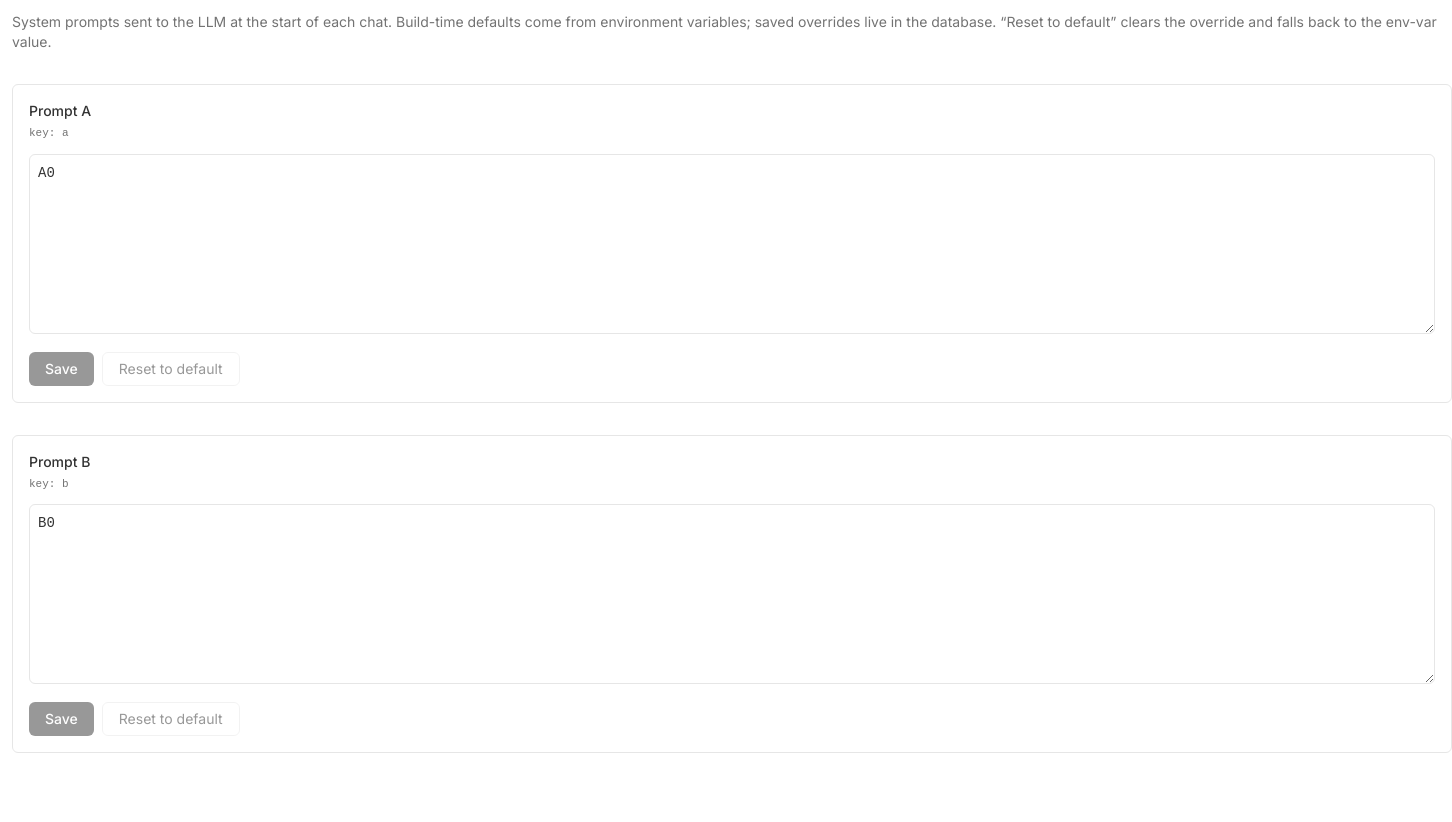
it: Prompts tab and the bar › saving one prompt from its own button keeps the other prompt's unsaved text
Expected: the text "Prompt A" is shown, x1=29 y1=101 x2=91 y2=121
Replace the text in the text box below "Prompt A" with "A1" at (732, 244), box x1=29 y1=154 x2=1435 y2=334
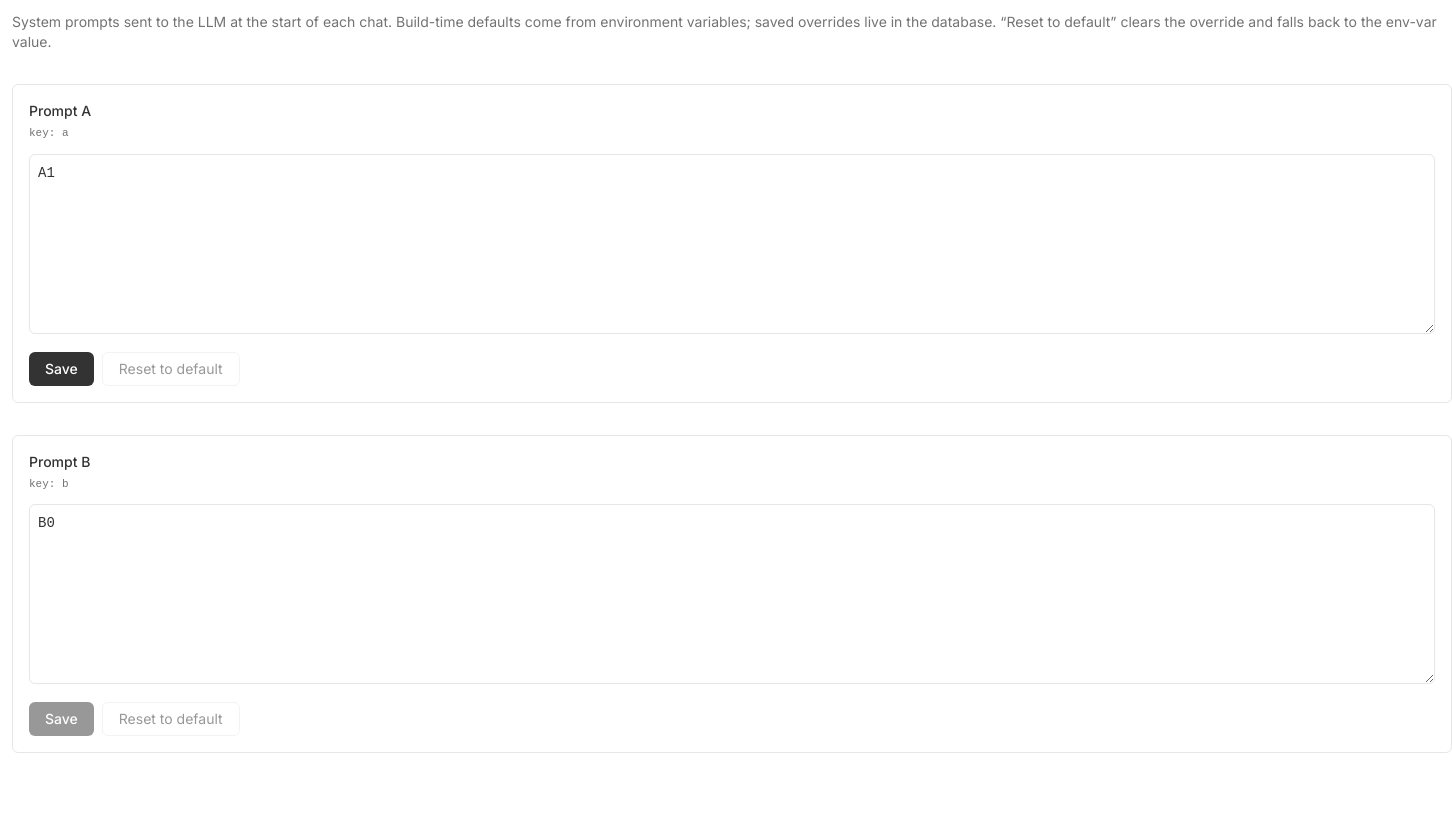
Replace the text in the text box below "Prompt B" with "B1" at (732, 594), box x1=29 y1=504 x2=1435 y2=684
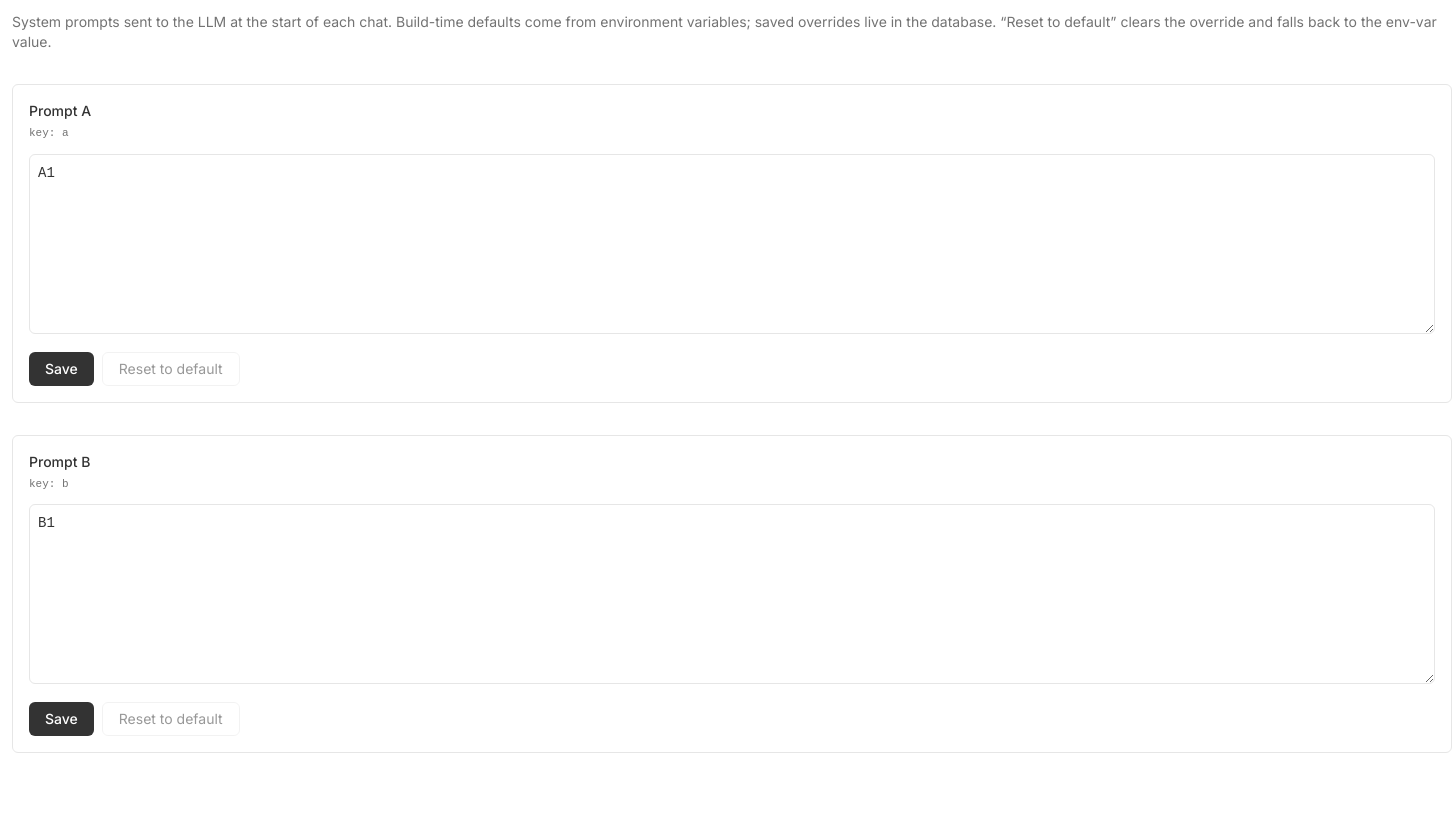
Click the button "Save" below "Prompt A".
click(61, 368)  # box x1=29 y1=352 x2=94 y2=386
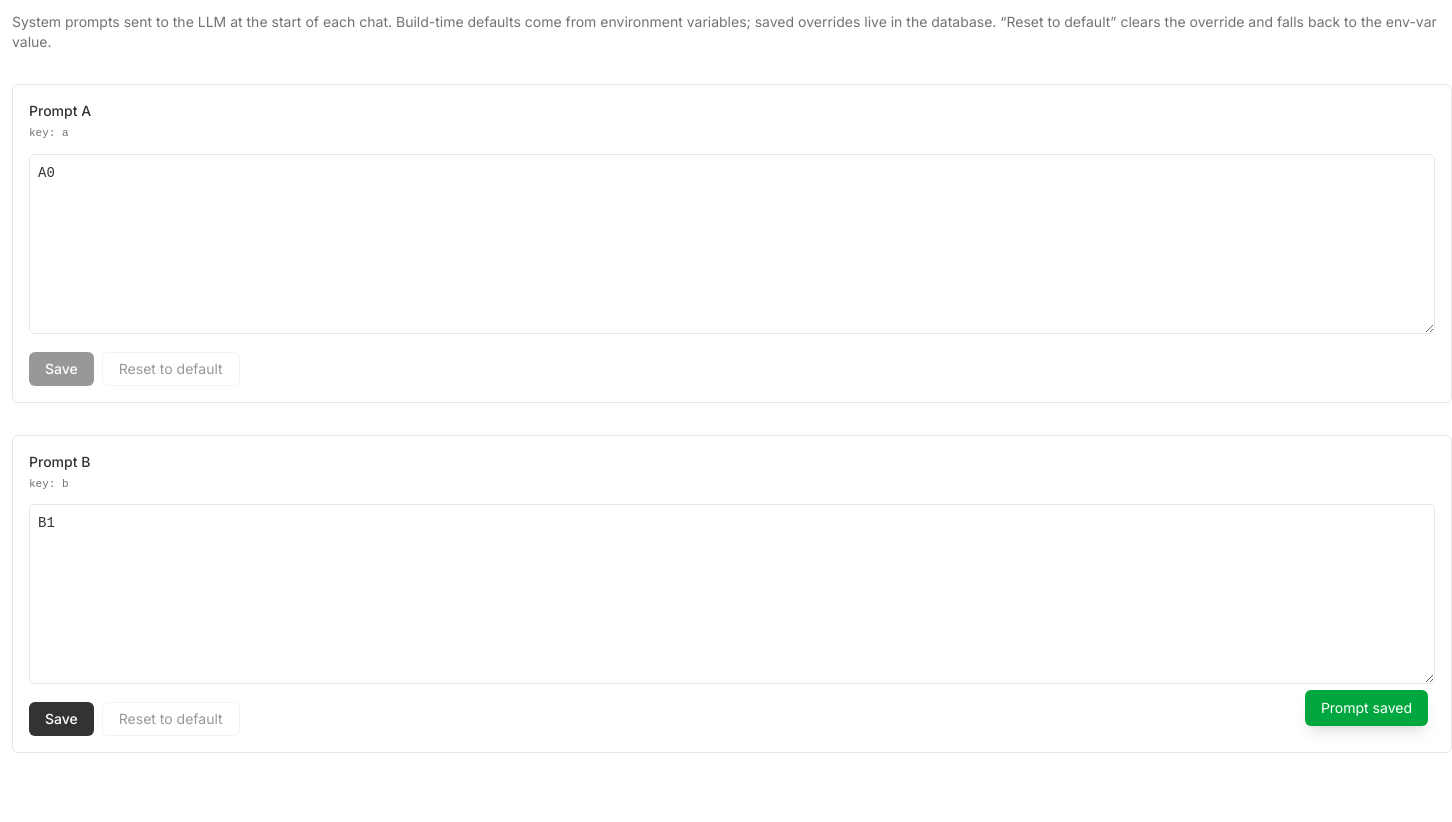
Expected: the text "Prompt saved" is shown, x1=1305 y1=690 x2=1428 y2=726
